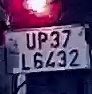2: (66, 47, 83, 68)
3: (56, 49, 69, 68), (50, 31, 58, 50)
4: (44, 51, 57, 68)
6: (30, 51, 47, 70)
7: (60, 29, 72, 49)
L: (19, 51, 33, 73)
P: (36, 31, 50, 51)
U: (25, 32, 37, 50)
